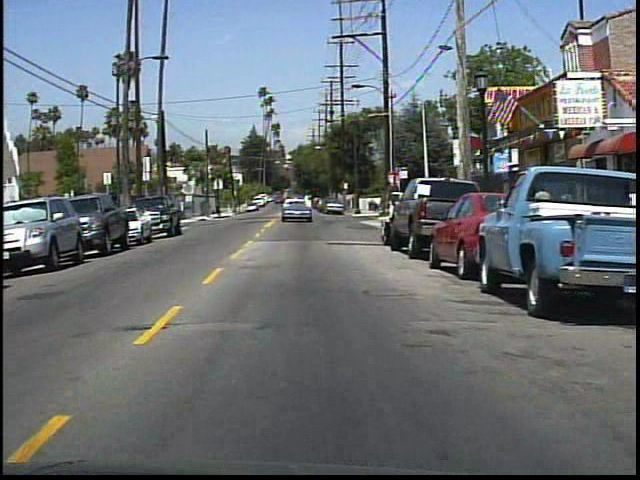person: (530, 178, 555, 238)
